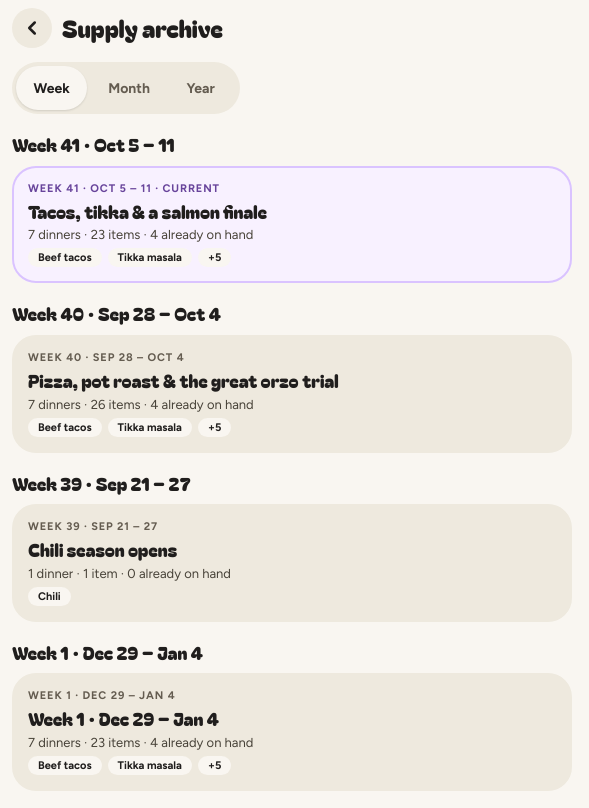
Scenario: SupplyArchivePage frozen post › opens the current week’s post, not yet frozen, in the Supply run, where it can still change
Click the text "Tacos, tikka & a salmon finale": [148, 211] box [28,198,267,224]
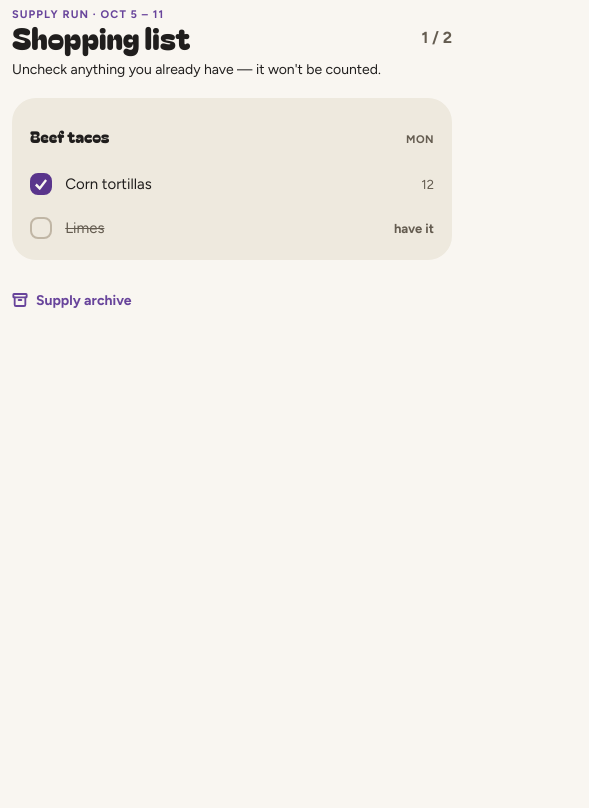
Expected: the checkbox labelled "Corn tortillas" is enabled, [30,173,52,195]
